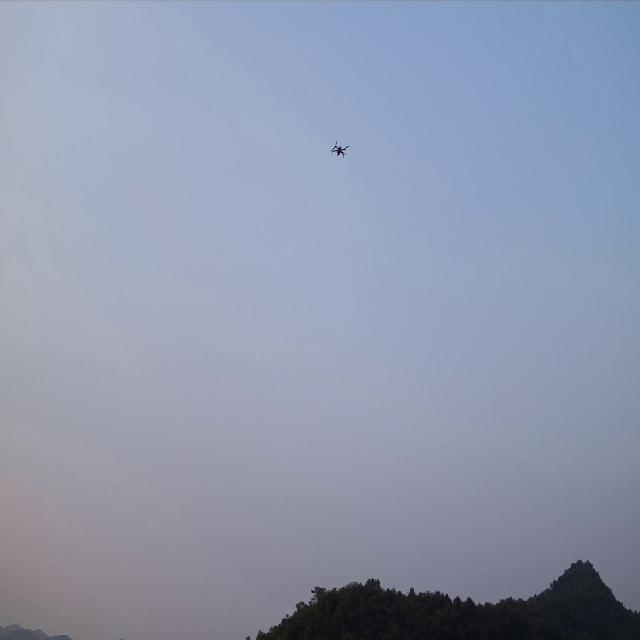UAV: (329, 140, 350, 160)
